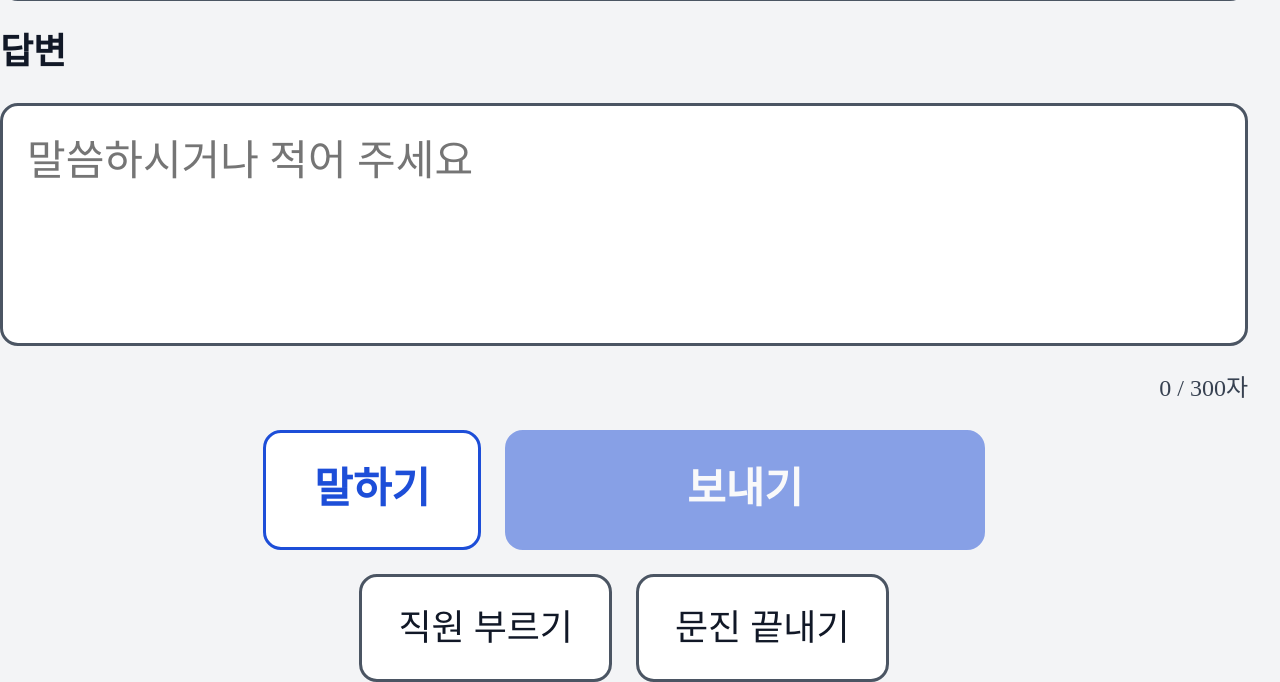
ConversationView › 끝내기는 확인을 거치고 Esc 로 닫으면 끝나지 않는다
Later steps or results of the test are not shown.
(page scrolled)
Click the button "문진 끝내기" at (762, 628), box [636,574,889,681]
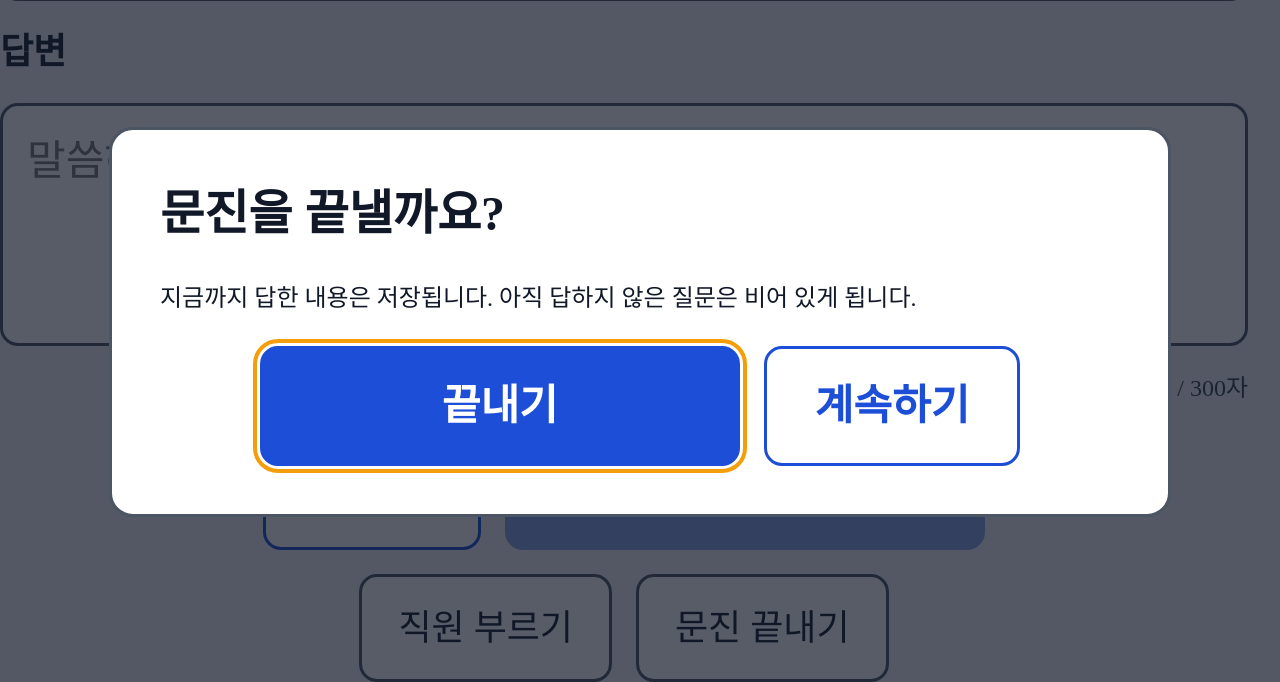
Now the dialog "문진을 끝낼까요?" is shown, box [109,127,1171,517]
Press Escape
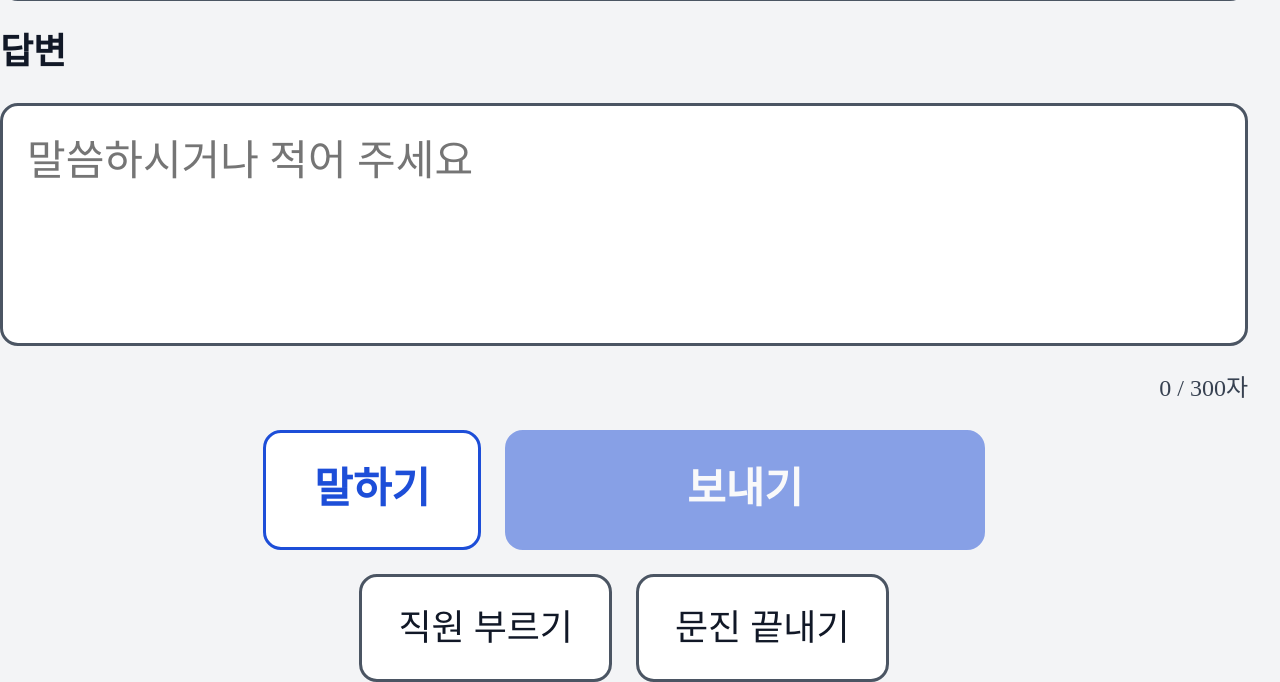
Now the dialog is gone
